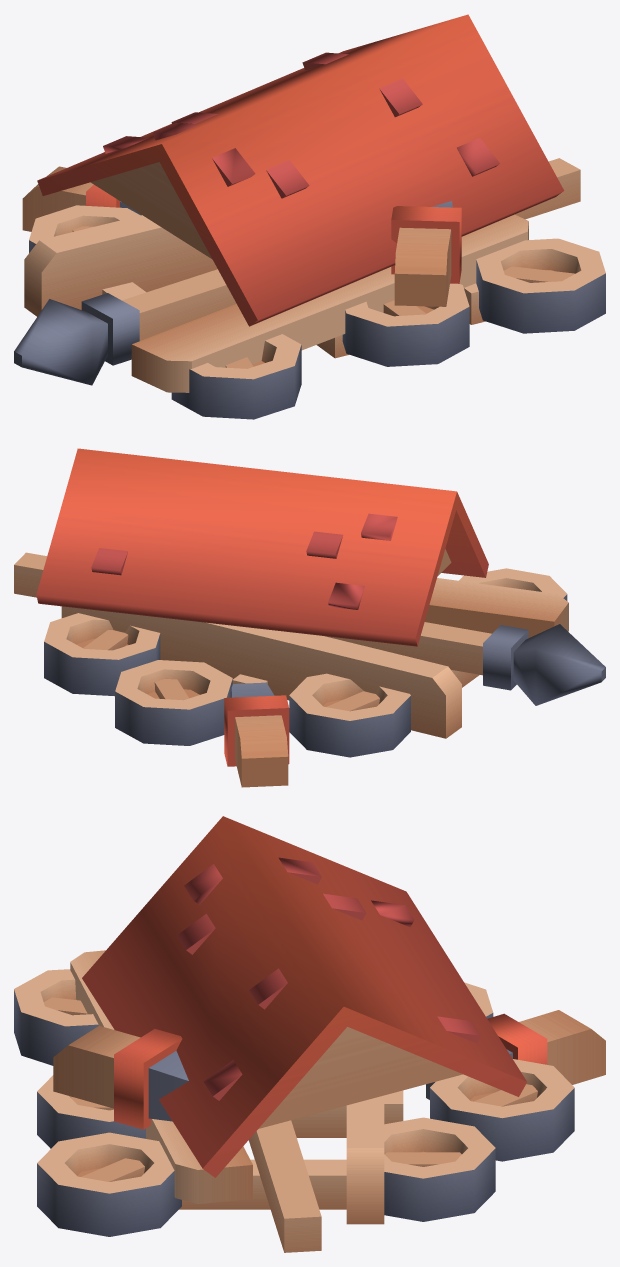
The model's file is siege-ram-demolished.fbx.
3 renders of one model, top to bottom at view 1: azimuth 30°, elevation 25°; view 2: azimuth 150°, elevation 25°; view 3: azimuth 270°, elevation 25°, orthographic. The views are drawn at different scales.
Visible parts, largest first — view 1: siege-ram-demolished; view 2: siege-ram-demolished; view 3: siege-ram-demolished.
Part boxes in pixels (x1,y1,x2,y2): siege-ram-demolished: (14,14,605,419); siege-ram-demolished: (14,448,605,787); siege-ram-demolished: (14,816,605,1252).
Size of the model in its own units: 2.08 by 1.65 by 0.7231.
